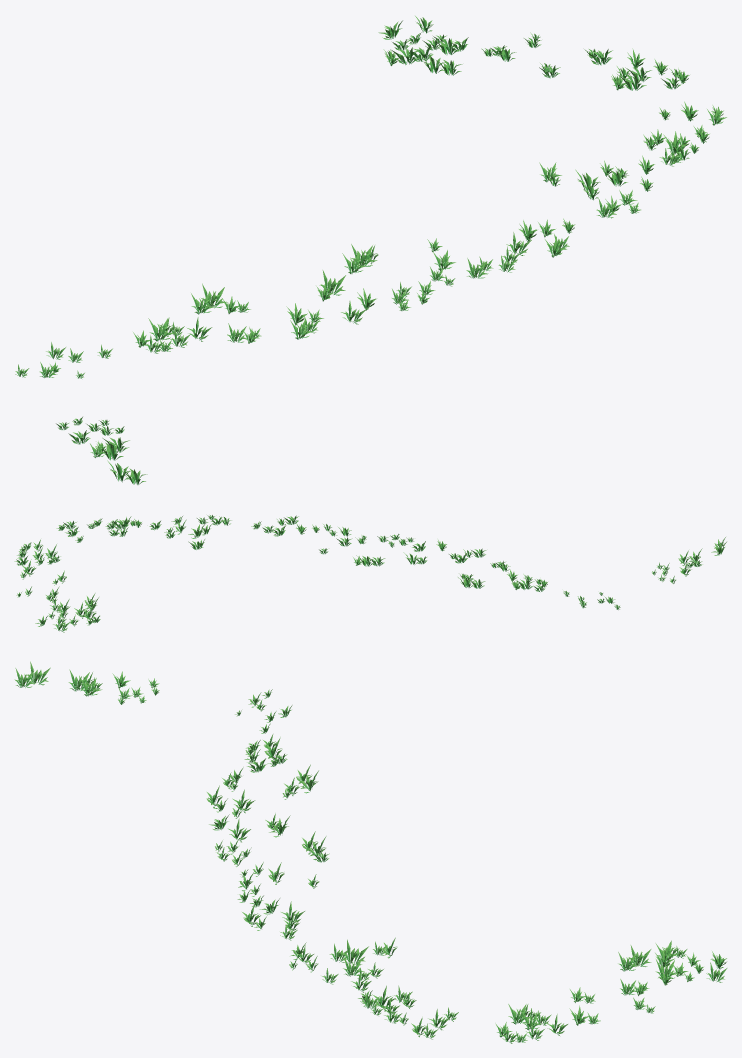
File: Area_09_53.fbx
3 renders of one model, top to bottom at view 1: azimuth 30°, elevation 25°; view 2: azimuth 150°, elevation 25°; view 3: azimuth 270°, elevation 25°, orthographic. The views are drawn at different scales.
Visible parts, largest first — view 1: Area_09_53; view 2: Area_09_53; view 3: Area_09_53.
Boxes of the visible parts, x1,y1,x2,y2 form: Area_09_53: (15, 16, 726, 484); Area_09_53: (14, 515, 726, 632); Area_09_53: (14, 661, 727, 1043).
Size of the model in its own units: 4323 by 118 by 3561.
